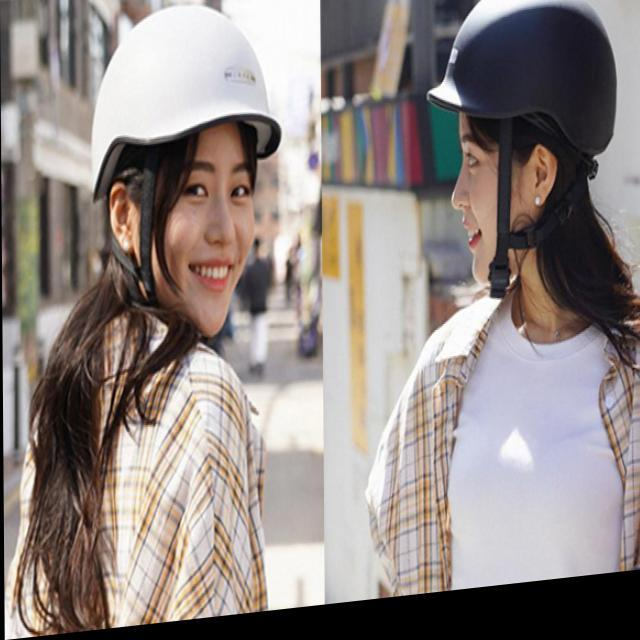Helmet: (57, 0, 283, 337), (424, 0, 610, 290)
